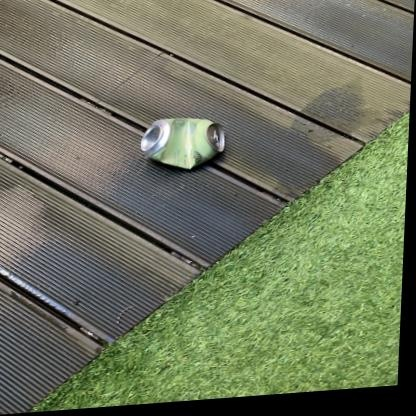trash: (141, 118, 224, 168)
